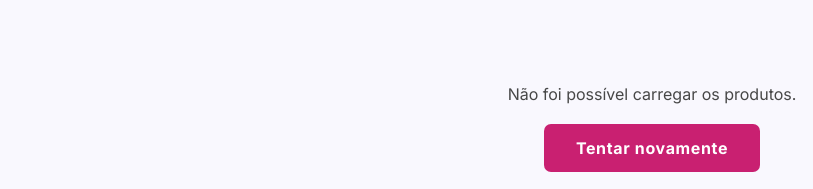
Test: estados assíncronos › mostra carregamento, erro e permite uma nova tentativa
Later steps or results of the test are not shown.
Check: the message shows "Não foi possível", box [508,84,796,104]
Click the button "Tentar novamente".
click(652, 148)  # box [544,124,760,172]
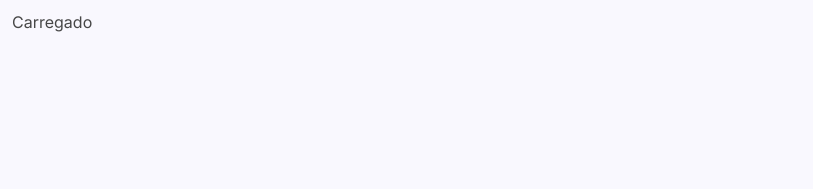
Check: the text "Carregado" is shown, box [12,12,92,32]
